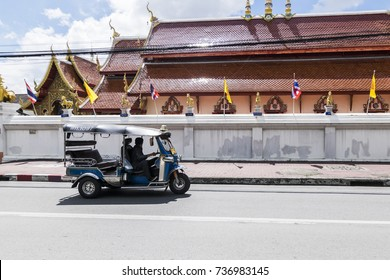threewheel: (61, 123, 191, 199)
